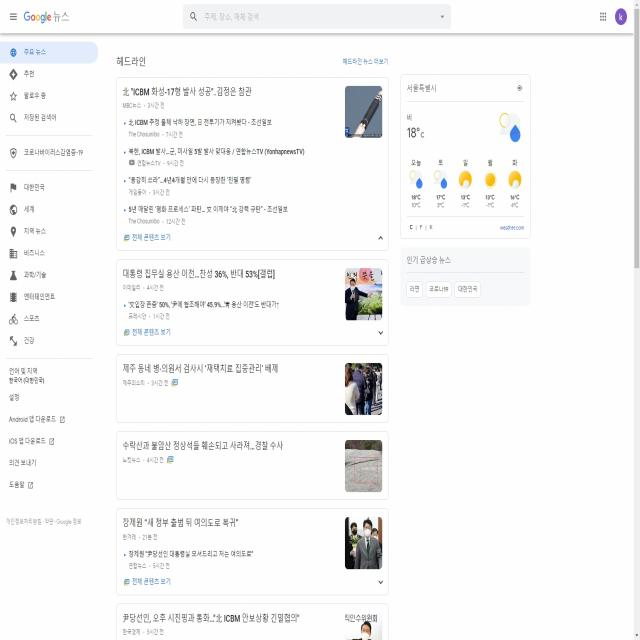menu-bar: (591, 3, 631, 30)
search: (178, 1, 453, 32)
side-panel: (400, 69, 533, 301)
